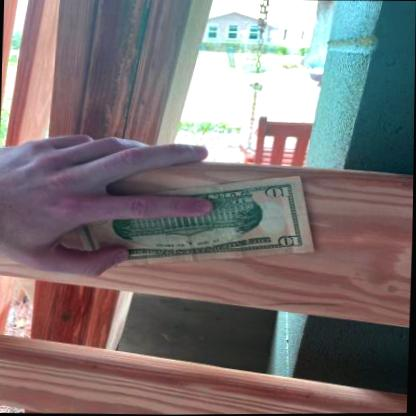ten-back: (70, 176, 316, 269)
